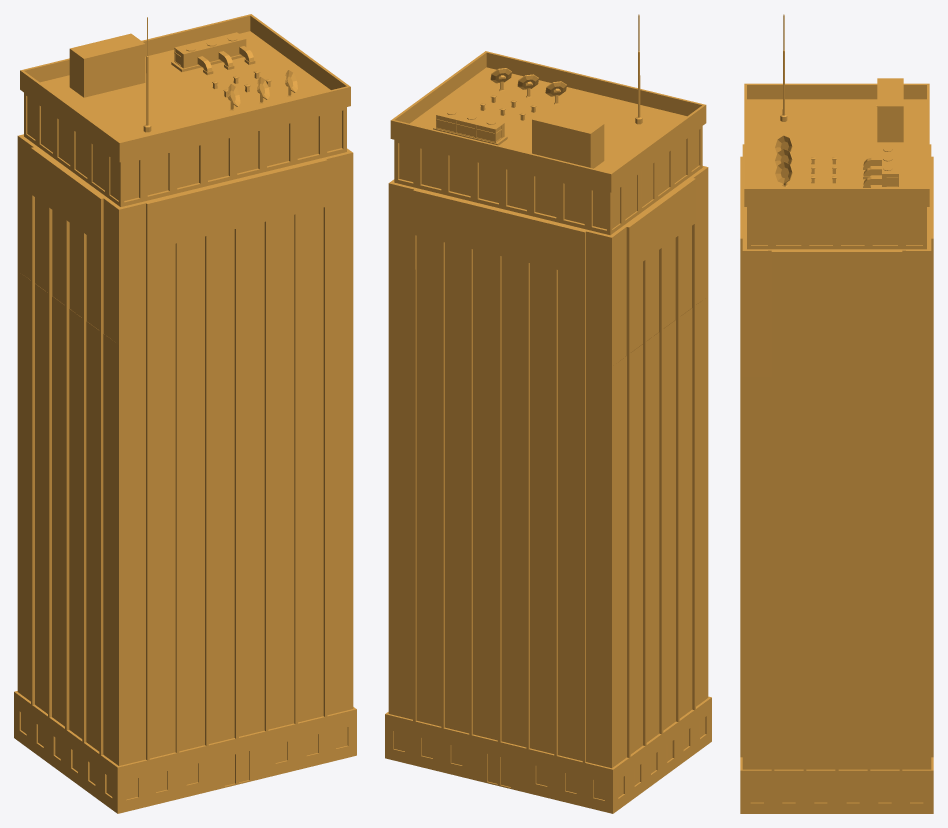
Rendered from building-office-tall.fbx.
3 renders of one model, left to right at view 1: azimuth 30°, elevation 25°; view 2: azimuth 150°, elevation 25°; view 3: azimuth 270°, elevation 25°, orthographic. The views are drawn at different scales.
Visible parts, largest first — view 1: building-office-tall; view 2: building-office-tall; view 3: building-office-tall.
Boxes of the visible parts, x1,y1,x2,y2 form: building-office-tall: (14,14,356,813); building-office-tall: (385,14,711,813); building-office-tall: (740,14,933,813).
Size of the model in its own units: 19.43 by 59.58 by 14.6.
